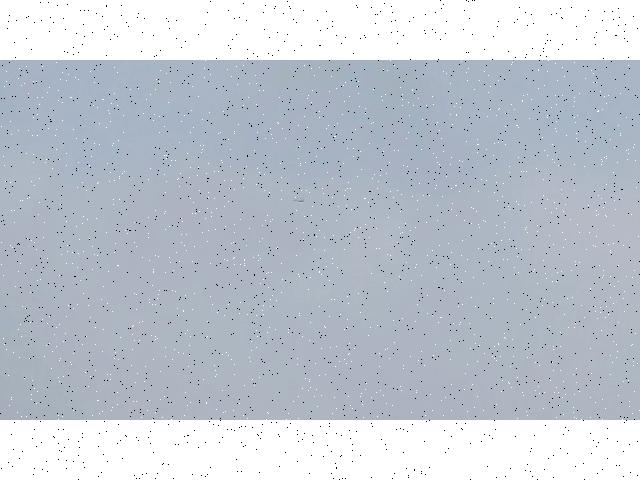Anti-Drone: (293, 197, 305, 203)
